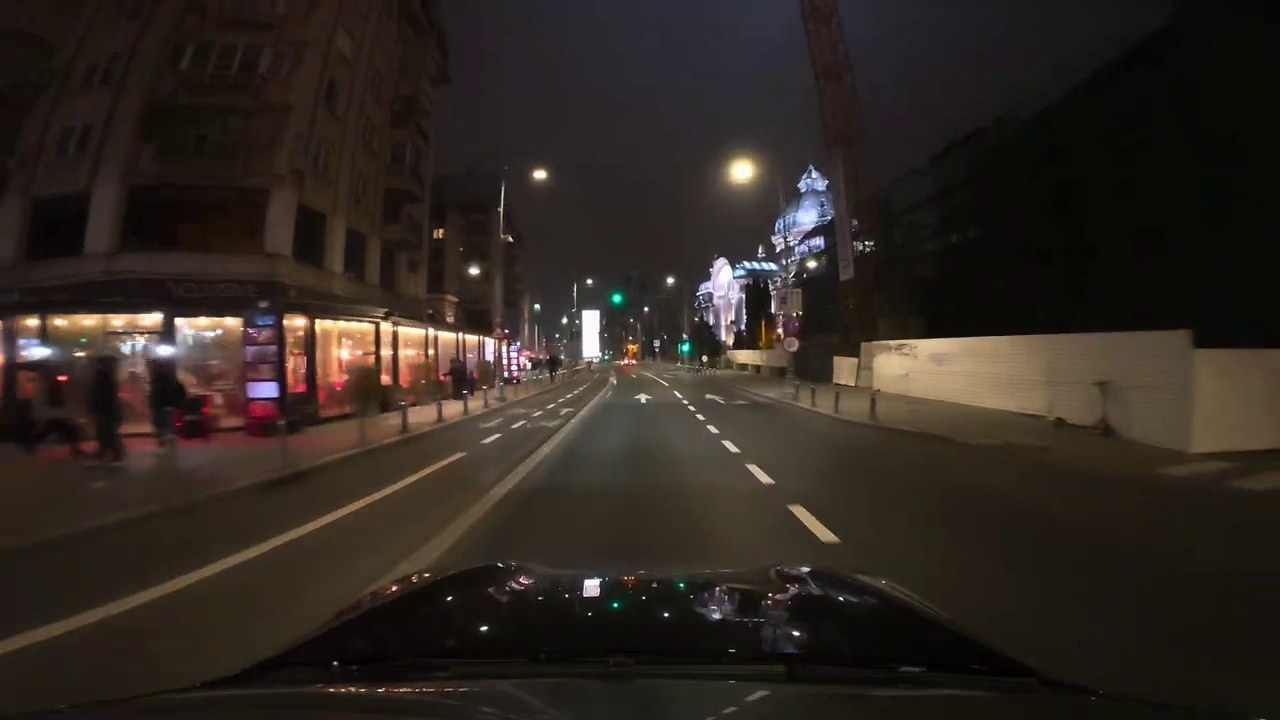acesa: (724, 155, 758, 186), (528, 164, 552, 186), (463, 263, 485, 283), (660, 272, 678, 292)
